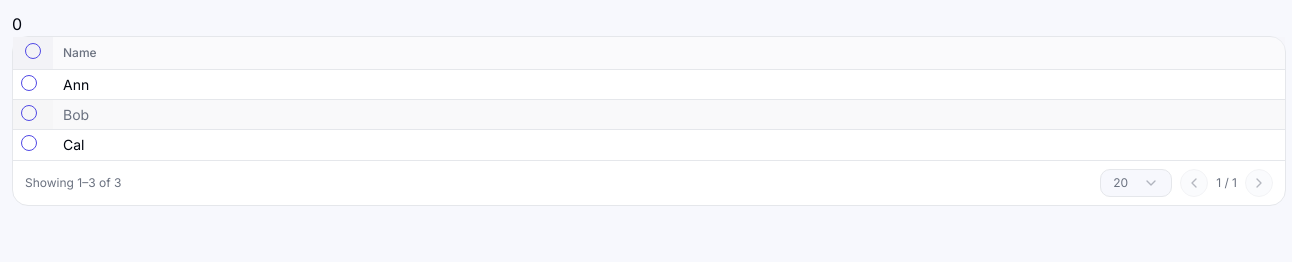
DataTable selection with locked rows › select-all takes only the selectable rows, and clicking again clears them
Click the checkbox named "Select page" at (33, 51), box [25, 43, 41, 59]
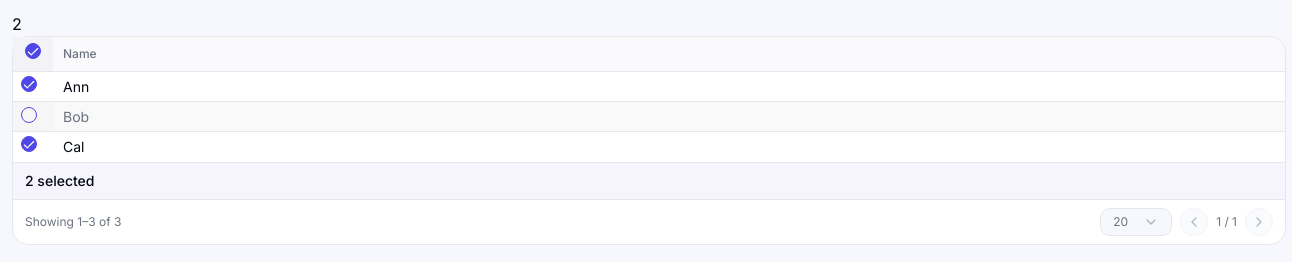
Check: the text with test id "count" reads "2", box [12, 14, 22, 34]
Click the checkbox named "Select page" at (33, 51), box [25, 43, 41, 59]
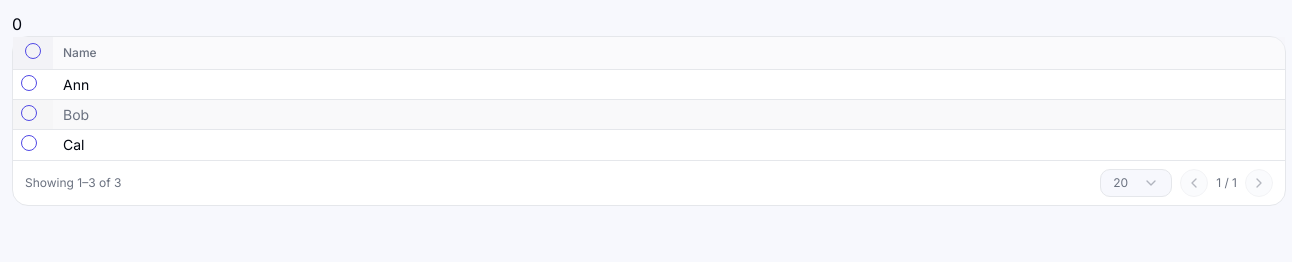
Check: the text with test id "count" reads "0", box [12, 14, 22, 34]
